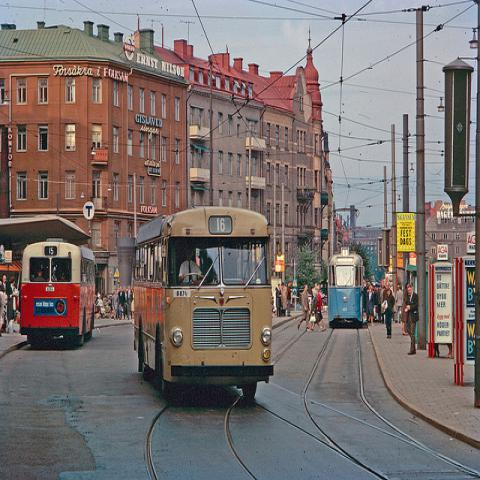bus: (132, 206, 272, 406), (20, 241, 96, 348)
